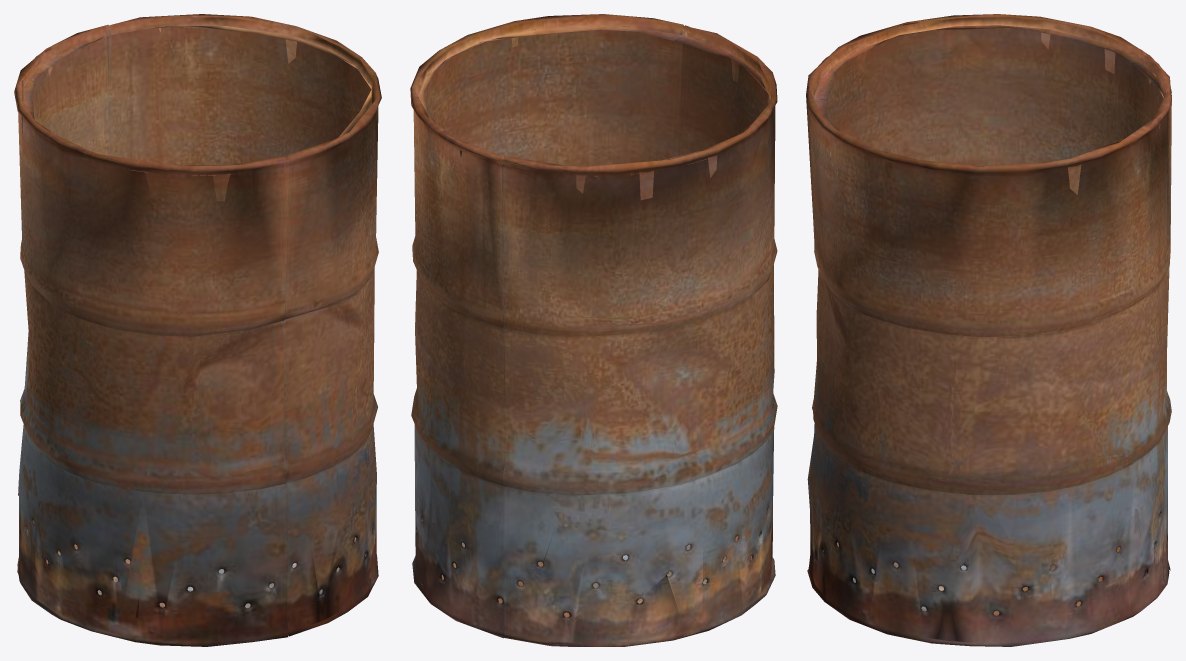
File: barrel_stove.glb
3 views of the same model, side by side, from view 1: azimuth 30°, elevation 25°; view 2: azimuth 150°, elevation 25°; view 3: azimuth 270°, elevation 25° (orthographic).
Visible parts, largest first — view 1: barrel_stove; view 2: barrel_stove; view 3: barrel_stove.
Boxes of the visible parts, <box> form: barrel_stove: <box>14,14,381,646</box>; barrel_stove: <box>410,14,777,646</box>; barrel_stove: <box>806,14,1171,646</box>.
Bounding box in the file's own units: 0.5931 × 0.8573 × 0.5899.
1 material, 1 textured.
